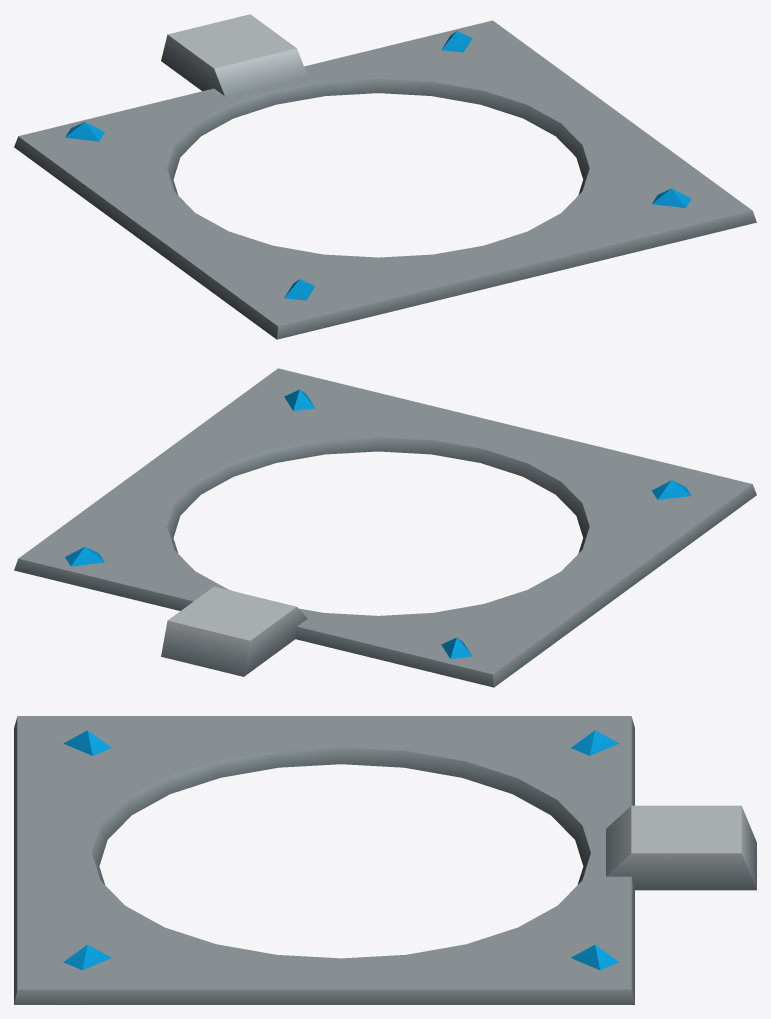
File: Hatch_001.fbx
3 renders of one model, top to bottom at view 1: azimuth 30°, elevation 25°; view 2: azimuth 150°, elevation 25°; view 3: azimuth 270°, elevation 25°, orthographic. The views are drawn at different scales.
Visible parts, largest first — view 1: Hatch_001; view 2: Hatch_001; view 3: Hatch_001.
Boxes of the visible parts, left/top/right/bottom form: Hatch_001: left=14, top=14, right=756, bottom=339; Hatch_001: left=14, top=368, right=756, bottom=687; Hatch_001: left=14, top=716, right=756, bottom=1004.
Size of the model in its own units: 87.47 by 99.25 by 5.46.
